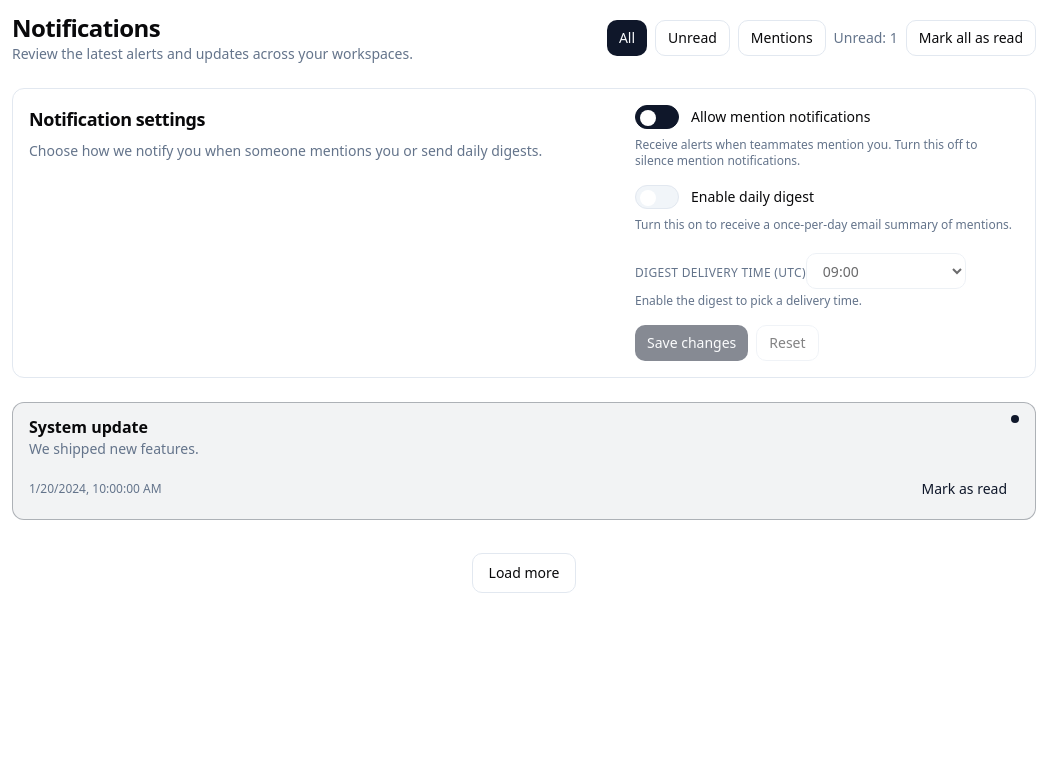
Test: NotificationsPage › shows an empty filtered state while keeping pagination hooks available
Click the button with test id "notifications-filter-mentions" at x=782, y=38, box [738,20,826,56]
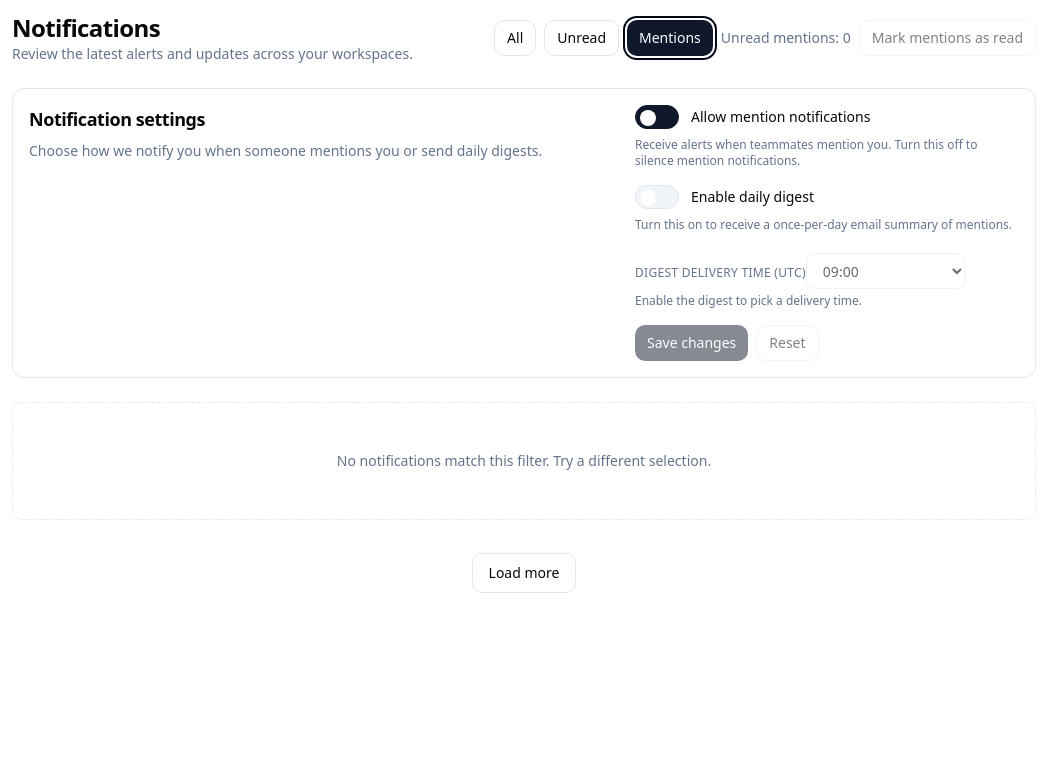
Expected: the text "No notifications match this filter. Try a different selection." is shown, [337,451,711,470]
